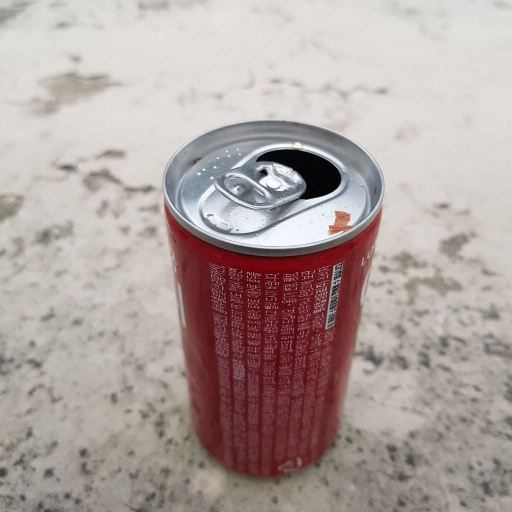Metal_0: (159, 117, 384, 479)
